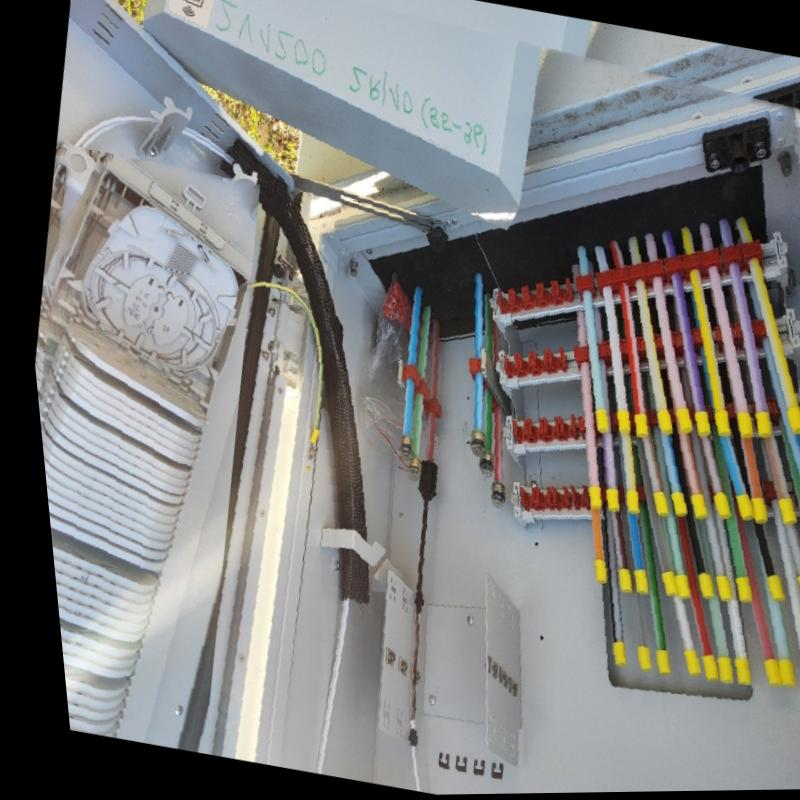NT-Gehause: (27, 0, 800, 796)
Spleiskassetten: (30, 151, 245, 742)
